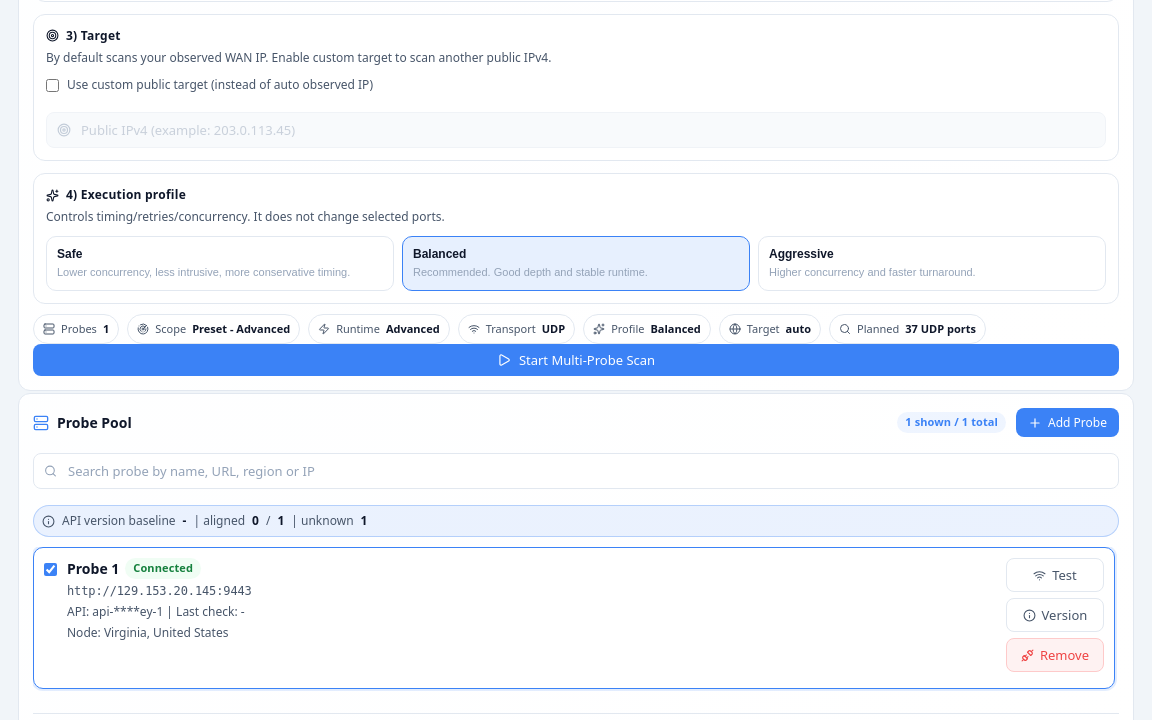
Scenario: WanProbe scan flow › blocks UDP scan when probe capabilities are unknown and asks to refresh
The width and height of the screenshot is (1152, 720).
(page scrolled)
Expected: the text "1 shown / 1 total" is shown, [897,412,1006,432]
Step 1. Click the button "Start Multi-Probe Scan" → (576, 360), box [33,344,1119,376]
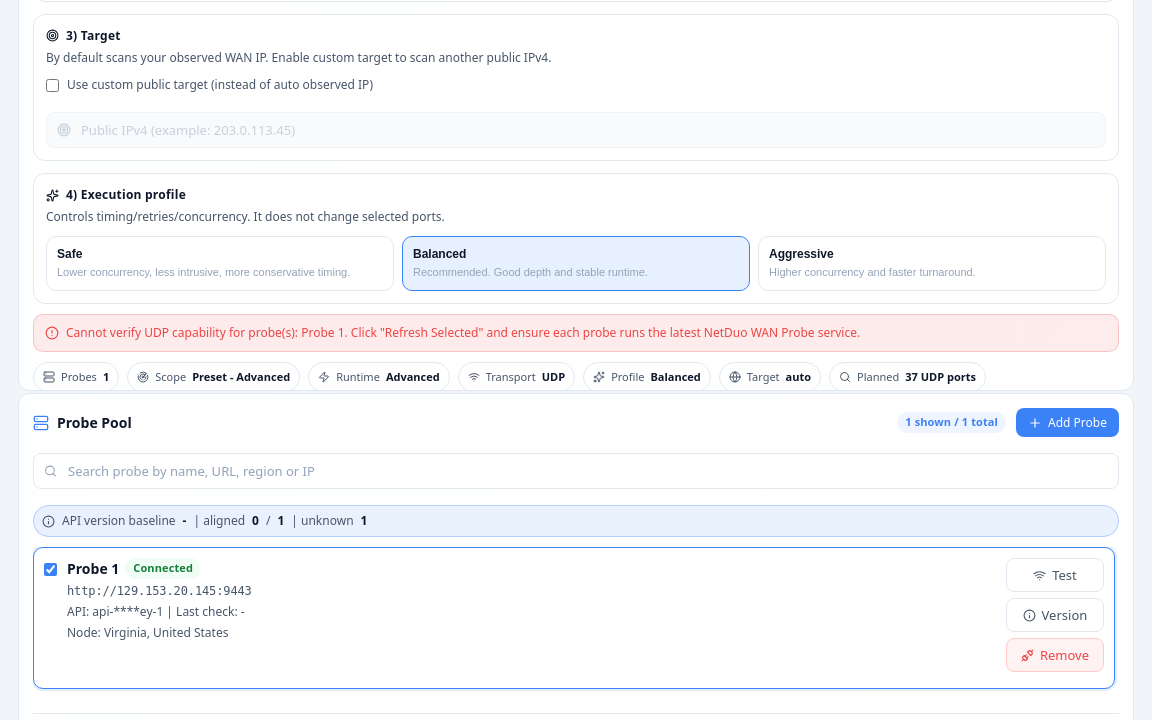
Result: the text "Cannot verify UDP capability for probe(s): Probe 1." is shown at [66,323,860,340]
